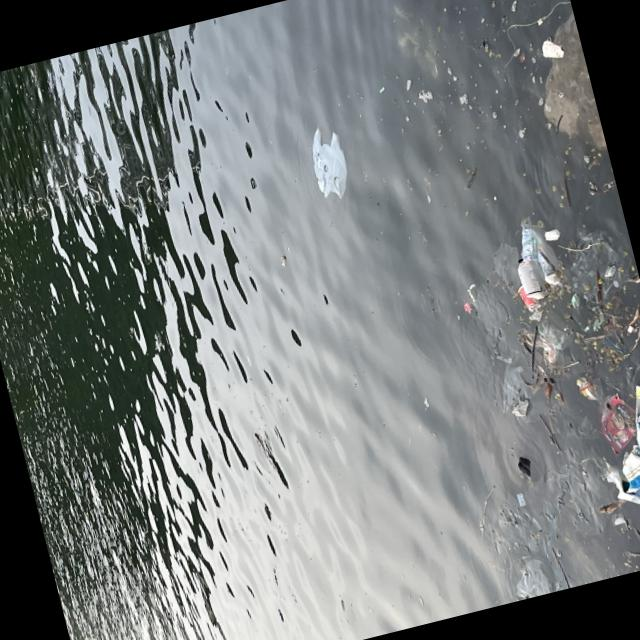foam: (545, 227, 563, 243)
plastic bag: (311, 127, 347, 199)
plastic bottle: (516, 255, 544, 300), (517, 281, 543, 313)
